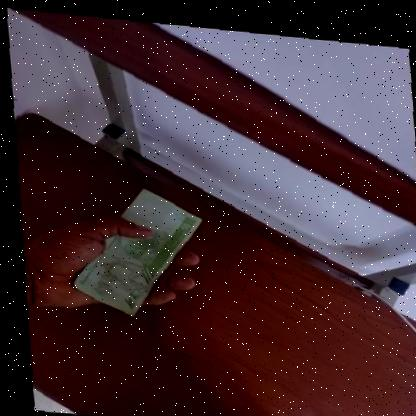fifty-back-vef: (60, 176, 209, 323)
